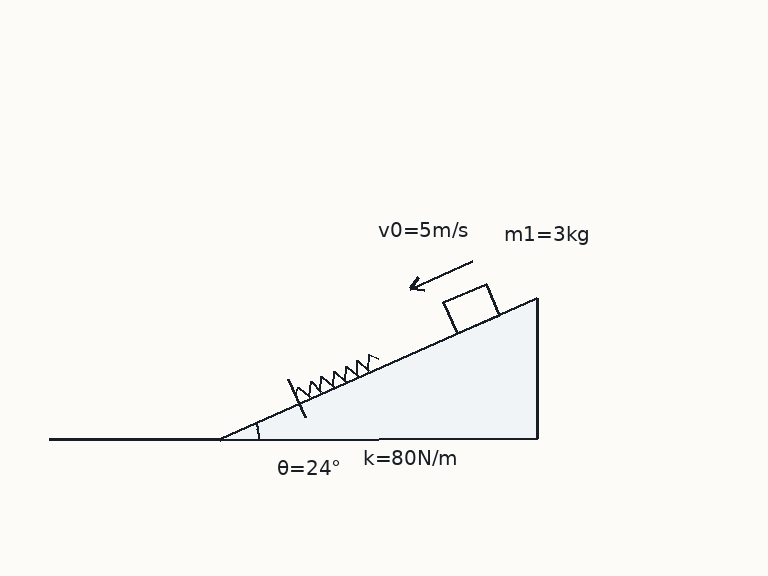block: (441, 281, 501, 335)
ramp: (217, 295, 539, 441)
spring: (293, 353, 379, 399)
